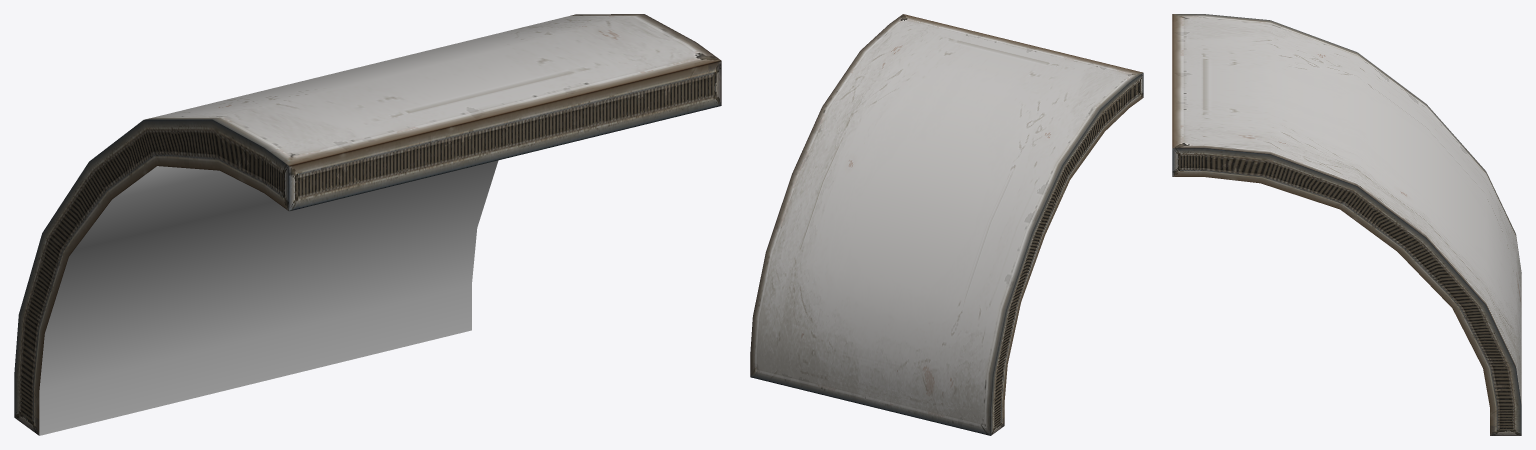
The model's file is scifi_wall_top2_9.FBX.
3 renders of one model, left to right at view 1: azimuth 30°, elevation 25°; view 2: azimuth 150°, elevation 25°; view 3: azimuth 270°, elevation 25°, orthographic. The views are drawn at different scales.
Parts seen in each view (by area): view 1: Plane330; view 2: Plane330; view 3: Plane330.
Boxes of the visible parts, x1,y1,x2,y2 form: Plane330: [14, 14, 721, 435]; Plane330: [750, 14, 1143, 435]; Plane330: [1172, 14, 1521, 435].
Size of the model in its own units: 254 by 254 by 279.
